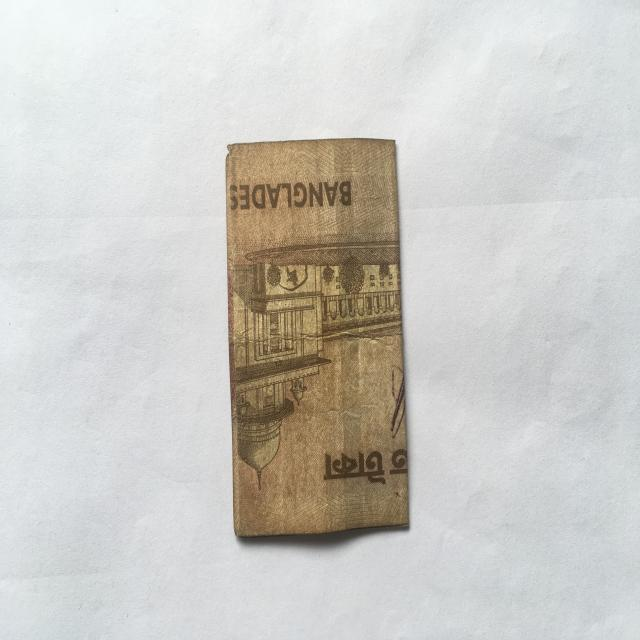Taka: (221, 134, 414, 540)
